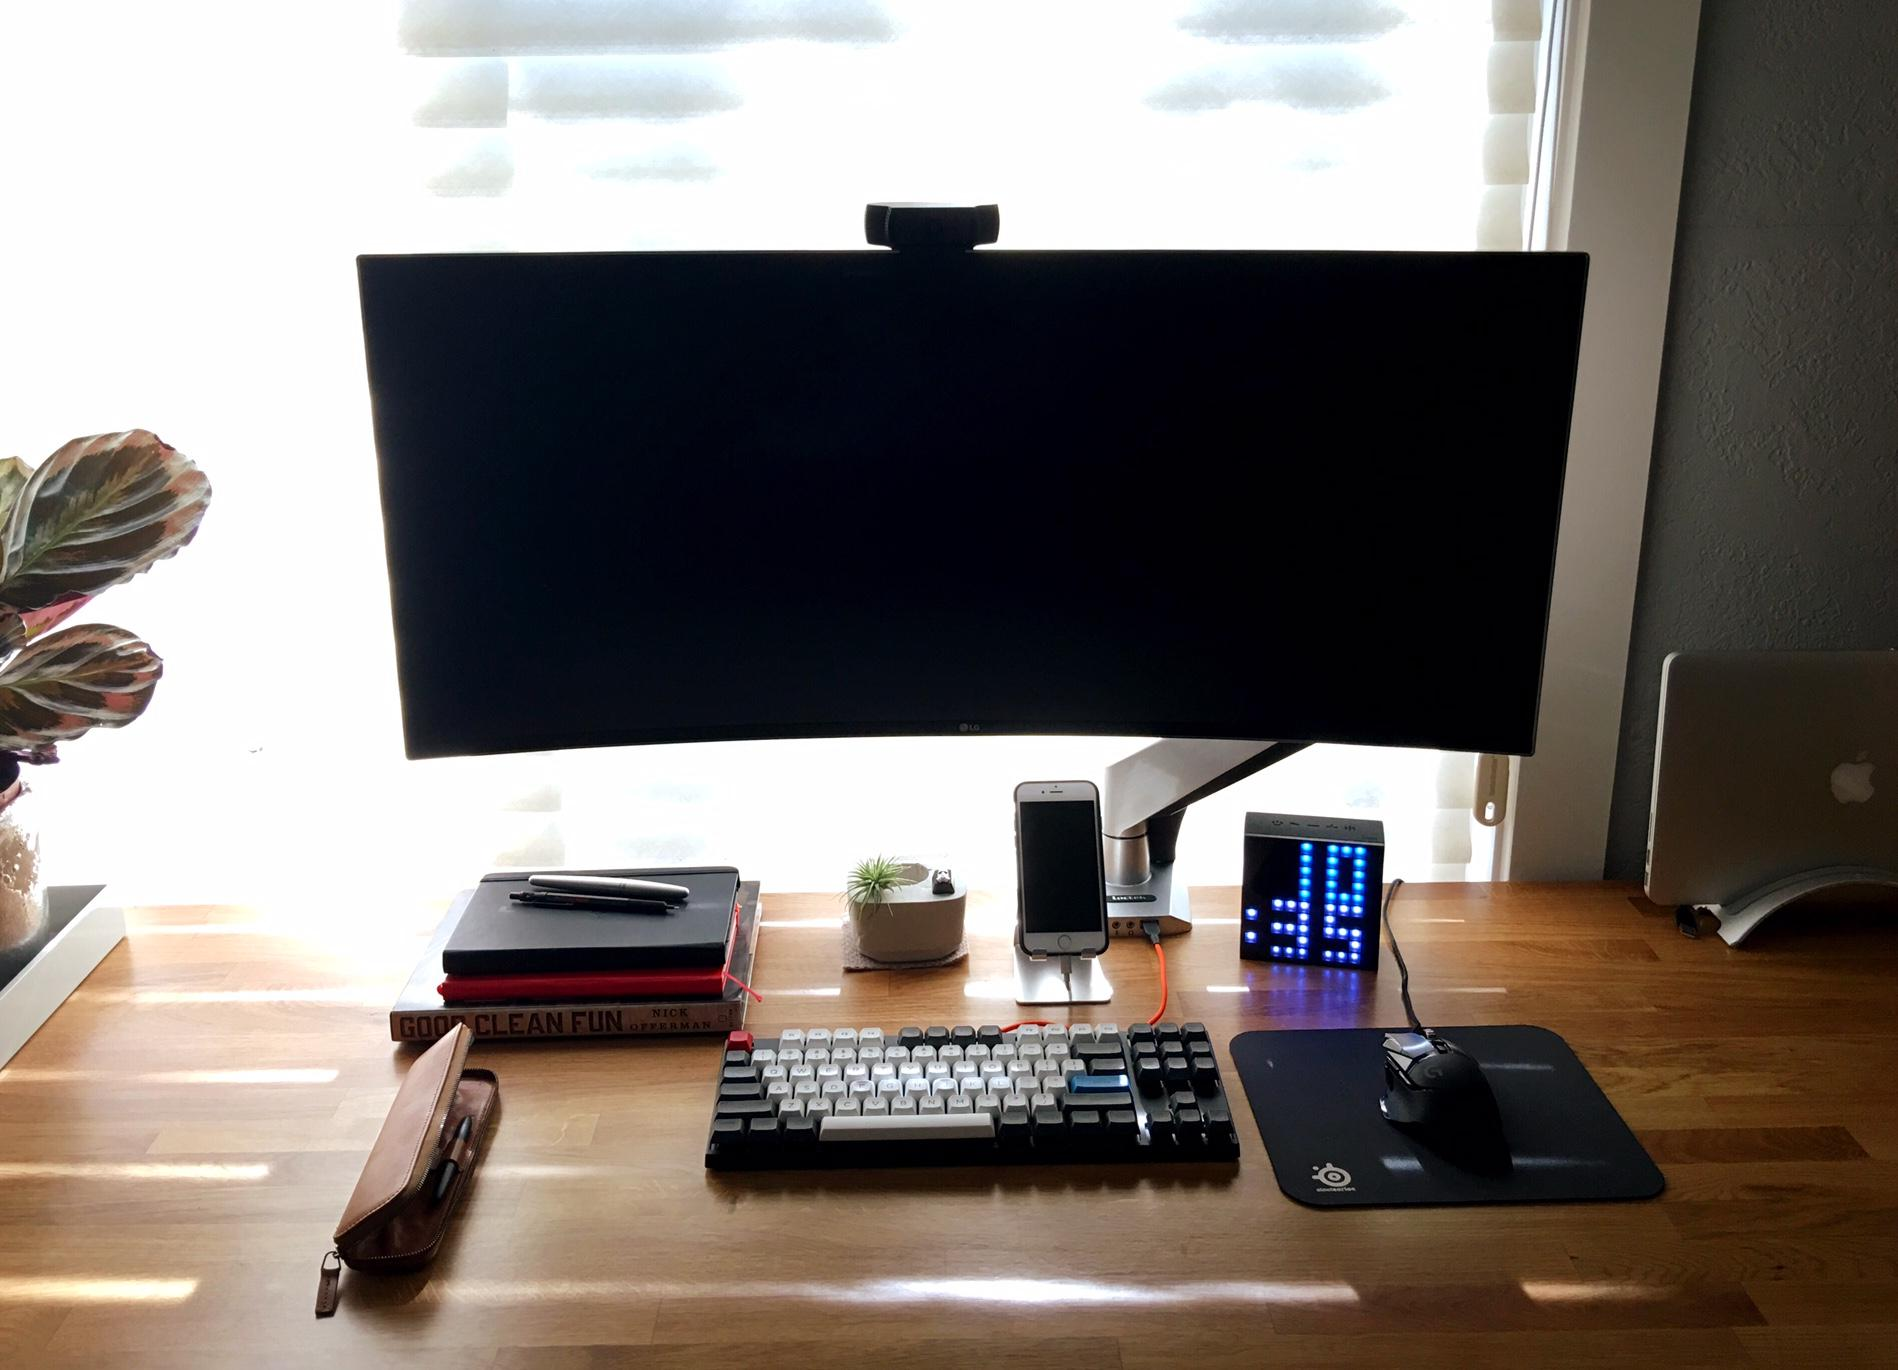Book: (391, 877, 766, 1044)
Cellphone: (1012, 779, 1113, 959)
Cellphone Charger (Generic): (1012, 916, 1116, 1008)
Decoration (Clock): (1238, 810, 1384, 977)
Decoration (Plant): (1, 429, 220, 1071), (838, 856, 971, 974)
External Webcam: (853, 199, 1011, 255)
Keyboard (Generic): (707, 1021, 1244, 1174)
Laptop (OSX): (1637, 653, 1898, 925)
Laptop Stand: (1701, 871, 1898, 944)
Monitor (Landscape): (352, 246, 1589, 769)
Monitor Arm: (1096, 734, 1320, 941)
Mouse (Ergonomic): (1373, 1027, 1510, 1156)
Mousepad (Generic): (1228, 1016, 1673, 1209)
Notebook: (451, 865, 744, 997)
